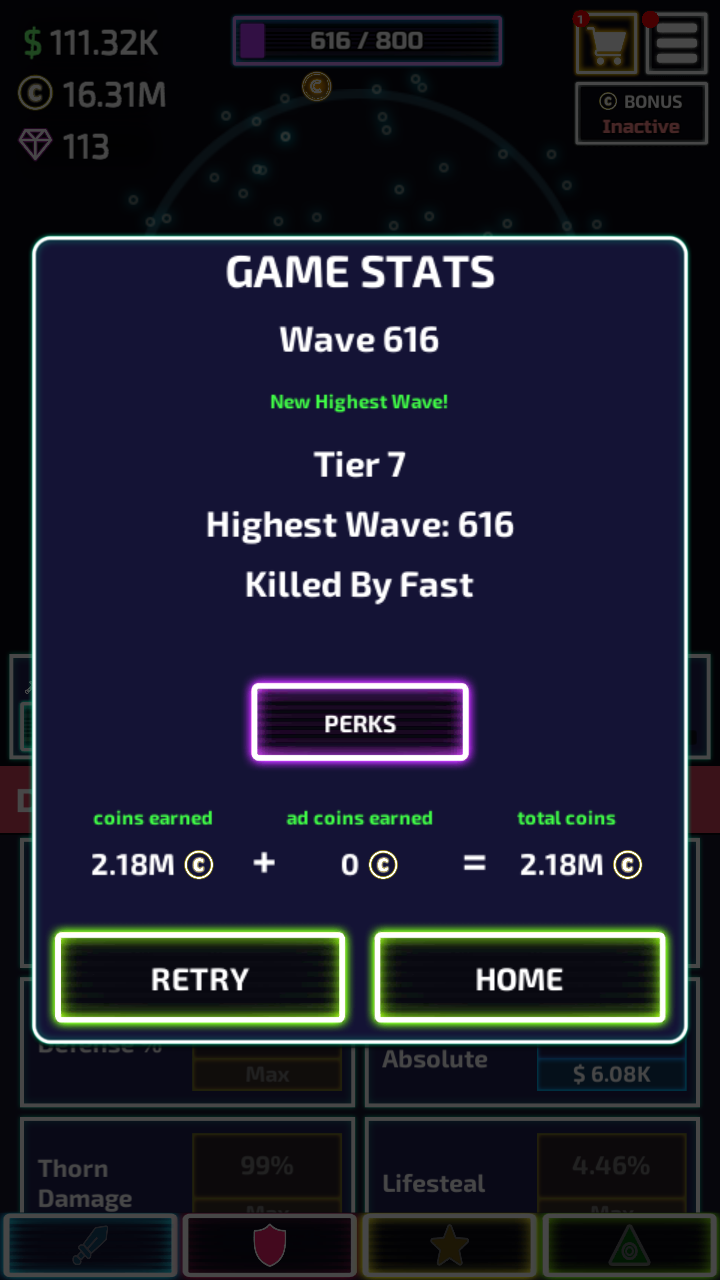B_Game_Over_Home: (371, 922, 665, 1026)
B_Game_Over_Retry: (53, 924, 348, 1022)
B_Menu_Action_Required: (637, 7, 706, 73)
B_Menu_Closed: (571, 12, 709, 75)
B_Slot: (365, 1118, 697, 1208), (21, 1120, 345, 1209), (365, 1037, 700, 1104), (20, 1039, 354, 1104)
B_Slot_Button: (534, 1137, 691, 1209), (191, 1135, 341, 1205), (533, 1039, 686, 1094), (188, 1041, 347, 1091)
B_Slot_Label: (25, 1150, 143, 1213), (370, 1164, 492, 1204), (372, 1039, 495, 1077)
B_Slot_Maxed: (533, 1138, 690, 1207), (190, 1137, 339, 1205), (184, 1042, 351, 1099)
B_Slot_Price: (552, 1059, 659, 1092)
B_Slot_Value: (206, 1139, 317, 1185), (548, 1145, 674, 1183)
B_Tab_Utility: (684, 763, 720, 836), (5, 764, 33, 832)
